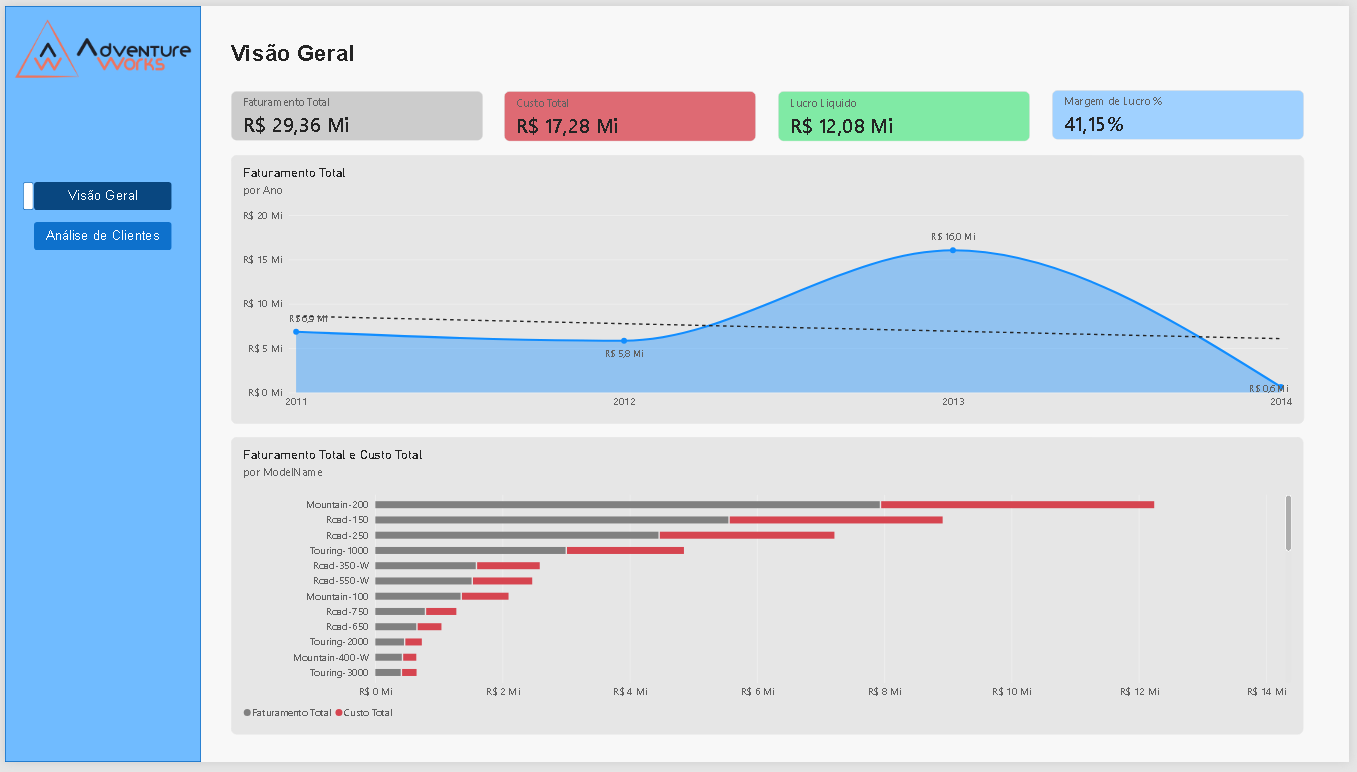

What the dashboard file says about the page in this screenshot:
{"tool":"powerbi","page":{"name":"Visão Geral","canvas":[1920,1080],"ordinal":0},"visuals":[{"type":"shape","box":[0,0,280,1080],"z":0},{"type":"image","box":[0,0,280,122],"z":1000},{"type":"textbox","box":[323.3,48.3,360,40],"z":2000},{"type":"cardVisual","fields":{"Data":["FactInternetSales.Faturamento Total"]},"box":[323.3,121.7,360,71.7],"z":3000},{"type":"cardVisual","fields":{"Data":["FactInternetSales.Custo Total"]},"box":[712.5,121.2,360,72],"z":4000},{"type":"cardVisual","fields":{"Data":["FactInternetSales.Lucro Liquido"]},"box":[1103.8,121.2,360,72],"z":5000},{"type":"cardVisual","fields":{"Data":["FactInternetSales.Margem de Lucro %"]},"box":[1495,120,360,71.7],"z":6000},{"type":"lineChart","title":"Evolução do Faturamento","fields":{"Category":["DimDate.FullDateAlternateKey.Variation.Hierarquia de datas.Ano","DimDate.FullDateAlternateKey.Variation.Hierarquia de datas.Trimestre","DimDate.FullDateAlternateKey.Variation.Hierarquia de datas.Mês","DimDate.FullDateAlternateKey.Variation.Hierarquia de datas.Dia"],"Y":["FactInternetSales.Faturamento Total"]},"box":[322.9,212.9,1532.9,384.3],"z":7000},{"type":"barChart","title":"Faturamento e Custo por Modelo","fields":{"Category":["DimProduct.ModelName"],"Y":["FactInternetSales.Faturamento Total","FactInternetSales.Custo Total"]},"box":[323.3,615,1531.7,425],"z":8000},{"type":"actionButton","box":[41.7,250.8,196.7,40],"z":9000},{"type":"actionButton","box":[41.7,308.3,196.7,40],"z":10000},{"type":"shape","box":[25,251.5,12,40],"z":11000},{"type":"actionButton","box":[41.7,361.2,196.7,40],"z":11001}]}

Visuals, with their boxes in screenshot pixels (x1, y1, x2, y2), scaled from the page's 1920x1080 canvas onto the 1357x772 screenshot:
shape: (0,0,198,771)
image: (0,0,198,87)
textbox: (228,35,483,63)
cardVisual - FactInternetSales.Faturamento Total: (228,87,483,138)
cardVisual - FactInternetSales.Custo Total: (504,87,758,138)
cardVisual - FactInternetSales.Lucro Liquido: (780,87,1035,138)
cardVisual - FactInternetSales.Margem de Lucro %: (1057,86,1311,137)
"Evolução do Faturamento" lineChart: (228,152,1312,427)
"Faturamento e Custo por Modelo" barChart: (228,440,1311,743)
actionButton: (29,179,168,208)
actionButton: (29,220,168,249)
shape: (18,180,26,208)
actionButton: (29,258,168,287)
